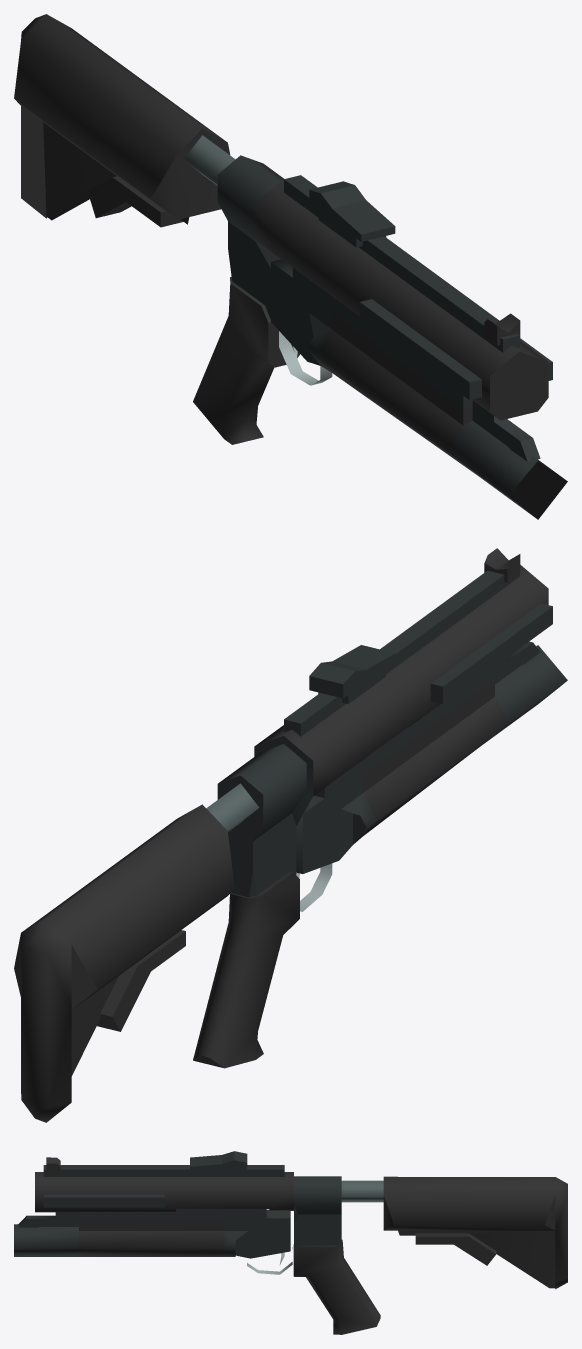
Rendered from Weapon_Low_GrenadeLauncher.FBX.
The picture shows the model from 3 angles, top to bottom: view 1: azimuth 30°, elevation 25°; view 2: azimuth 150°, elevation 25°; view 3: azimuth 270°, elevation 25°; orthographic projection. The views are drawn at different scales.
Parts seen in each view (by area): view 1: WeaponGrenadeLauncher_Low; view 2: WeaponGrenadeLauncher_Low; view 3: WeaponGrenadeLauncher_Low.
Boxes of the visible parts, bbox=[...] form: WeaponGrenadeLauncher_Low: bbox=[14, 14, 567, 519]; WeaponGrenadeLauncher_Low: bbox=[14, 548, 567, 1122]; WeaponGrenadeLauncher_Low: bbox=[14, 1151, 567, 1334].
Bounding box in the file's own units: 6.62 × 68.64 × 23.9.
